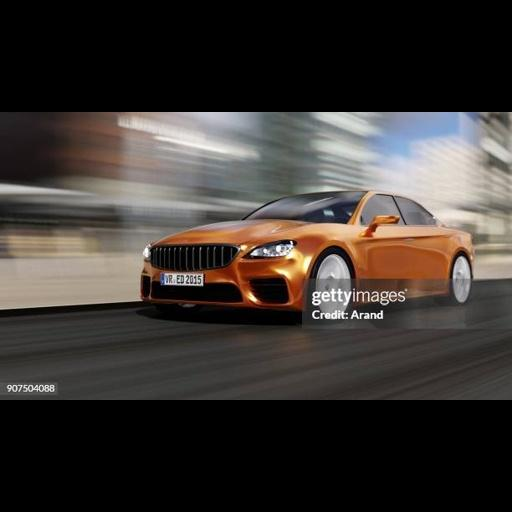sedan: (140, 193, 473, 313)
